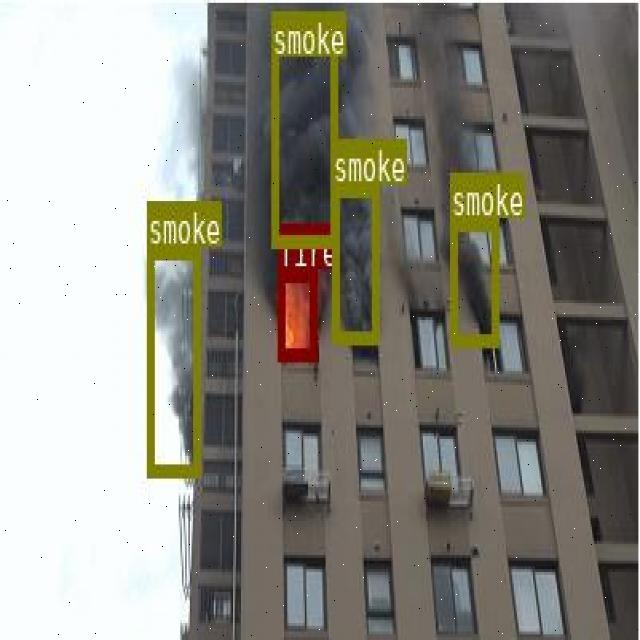fire: (277, 268, 315, 357)
smoke: (270, 9, 336, 244), (147, 245, 198, 473), (332, 182, 378, 342), (449, 218, 498, 344)
